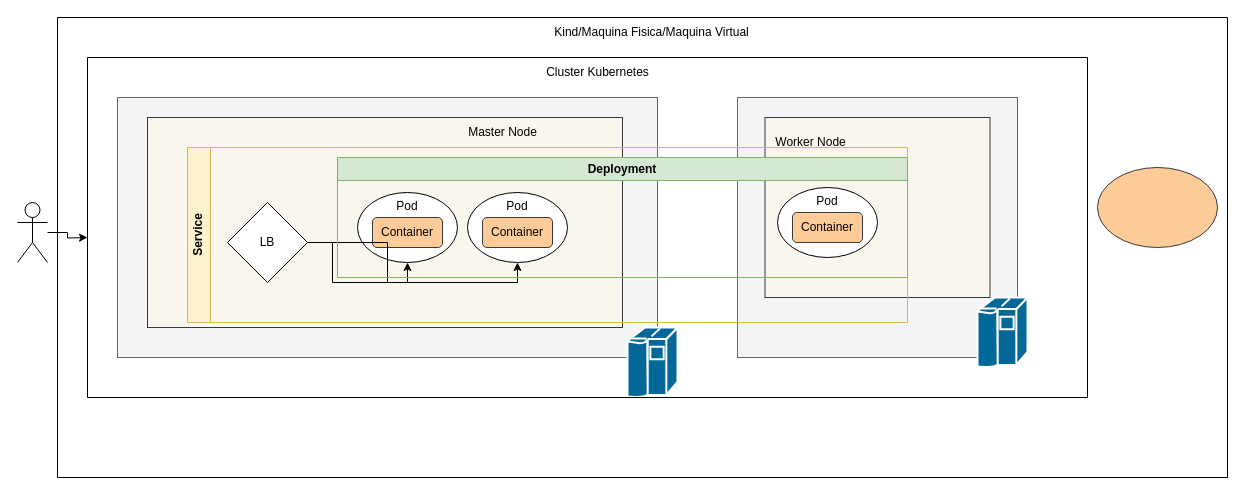
Some shapes in this 1245 by 495 pixel diagram are drawn without their labels. The centre of each missing label's shape, as x and y in pixels:
Actor: the point at 32,232
Imagem: the point at 1157,207
